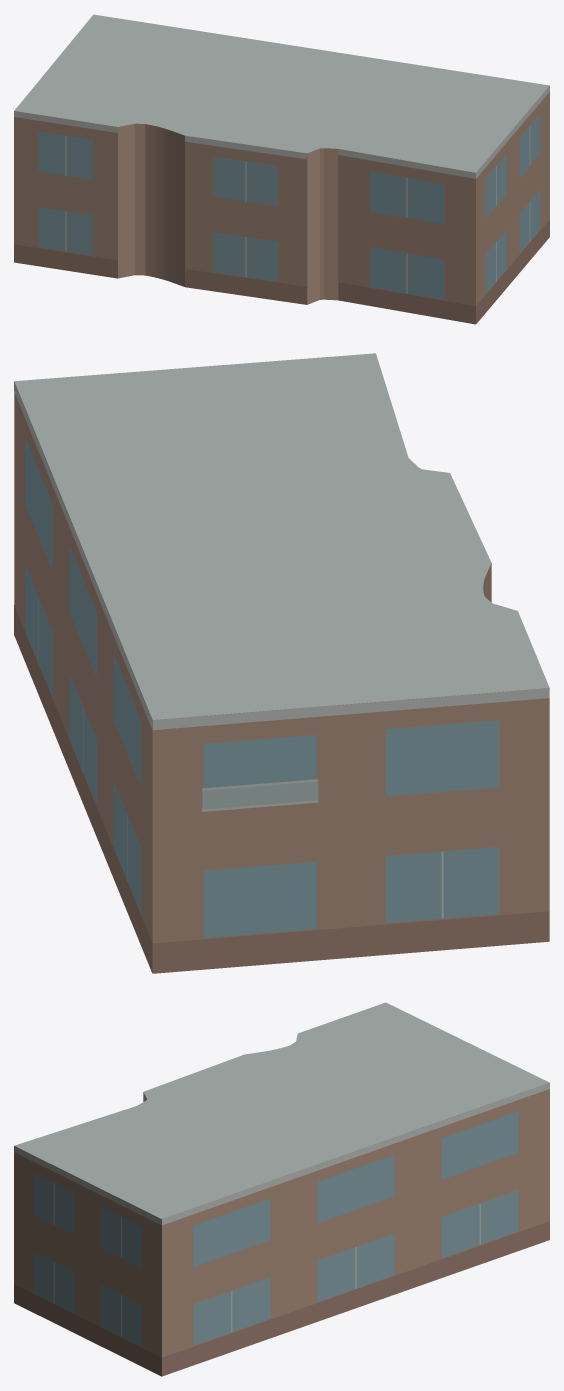
Rendered from survey-upis-32980029.glb.
3 renders of one model, top to bottom at view 1: azimuth 30°, elevation 25°; view 2: azimuth 150°, elevation 25°; view 3: azimuth 270°, elevation 25°, orthographic. The views are drawn at different scales.
Visible parts, largest first — view 1: survey-upis-32980029.tmp; view 2: survey-upis-32980029.tmp; view 3: survey-upis-32980029.tmp.
Boxes of the visible parts, x1,y1,x2,y2 form: survey-upis-32980029.tmp: (14, 14, 549, 324); survey-upis-32980029.tmp: (14, 353, 549, 973); survey-upis-32980029.tmp: (14, 1002, 549, 1376).
Size of the model in its own units: 18.03 by 6.1 by 18.83.
